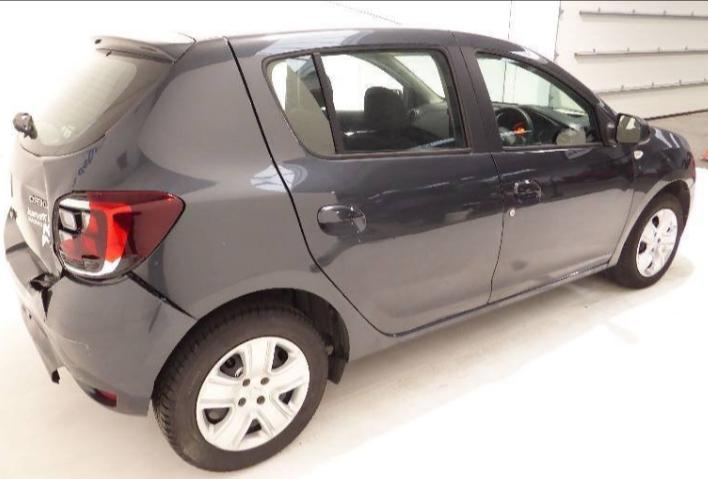Broken part: (3, 206, 196, 416), (52, 190, 185, 277)
Dent: (19, 161, 62, 277), (141, 293, 175, 338)
Scratch: (69, 139, 107, 188)
